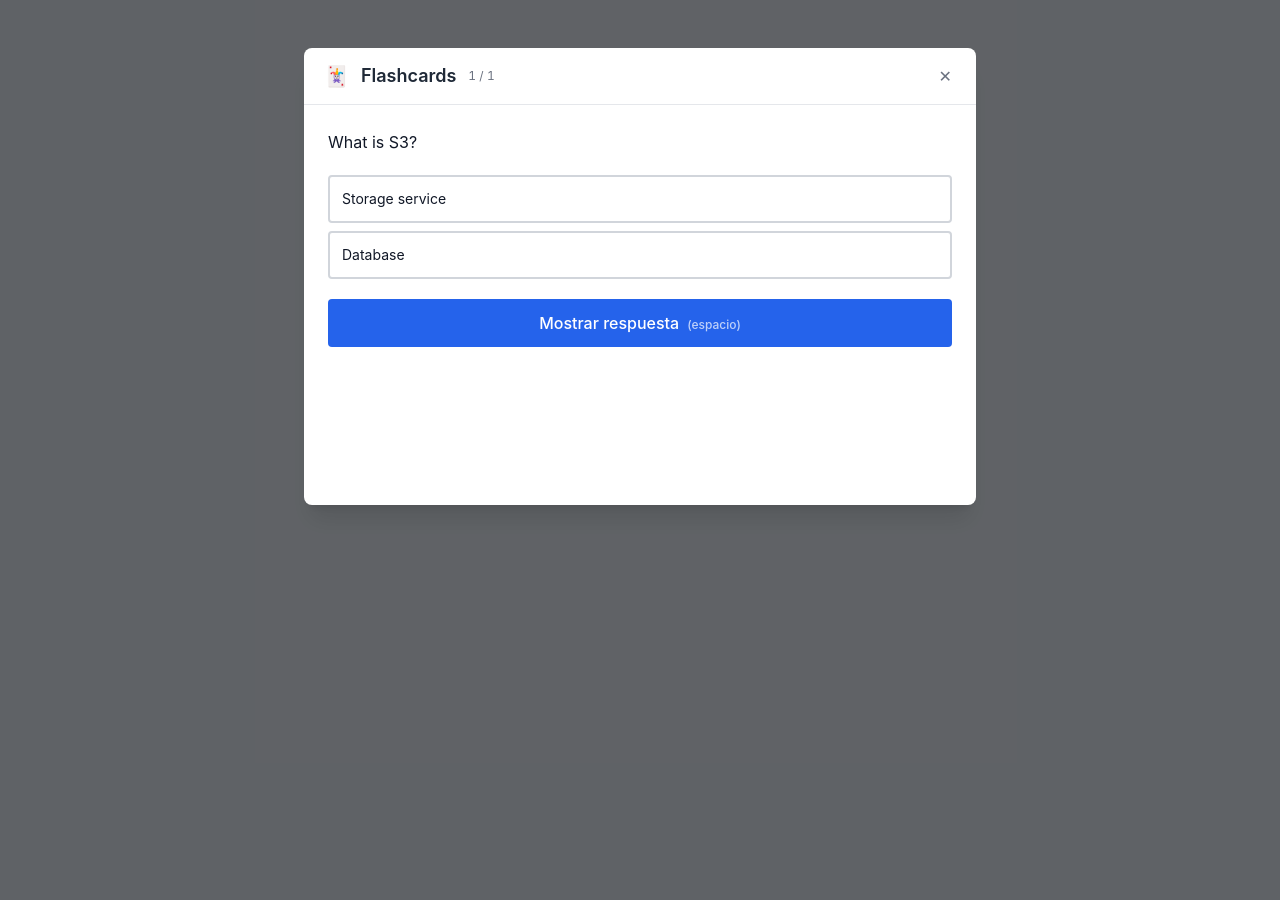
FlashcardMode › shows the finished state after grading the last card
The width and height of the screenshot is (1280, 900).
Expected: the text "1 / 1" is shown, top-left (468, 68), bottom-right (495, 84)
What coordinates should you click on to do the following:
click the button "Mostrar respuesta(espacio)"
I would click on:
 (640, 323)
Its box is top-left (328, 299), bottom-right (952, 347).
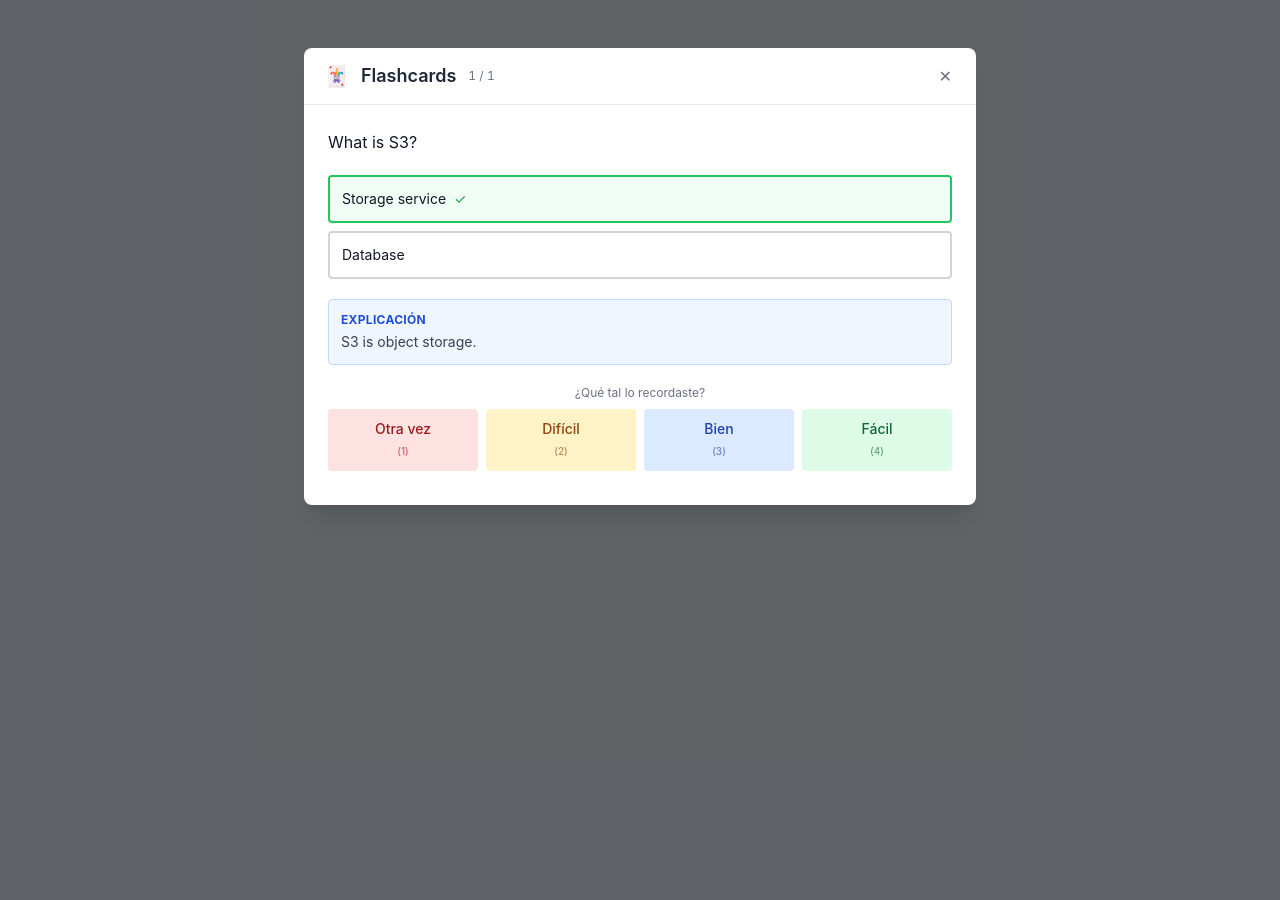
What coordinates should you click on to do the following:
click the button "Fácil (4)"
I would click on:
 (877, 440)
Its box is top-left (802, 409), bottom-right (952, 471).
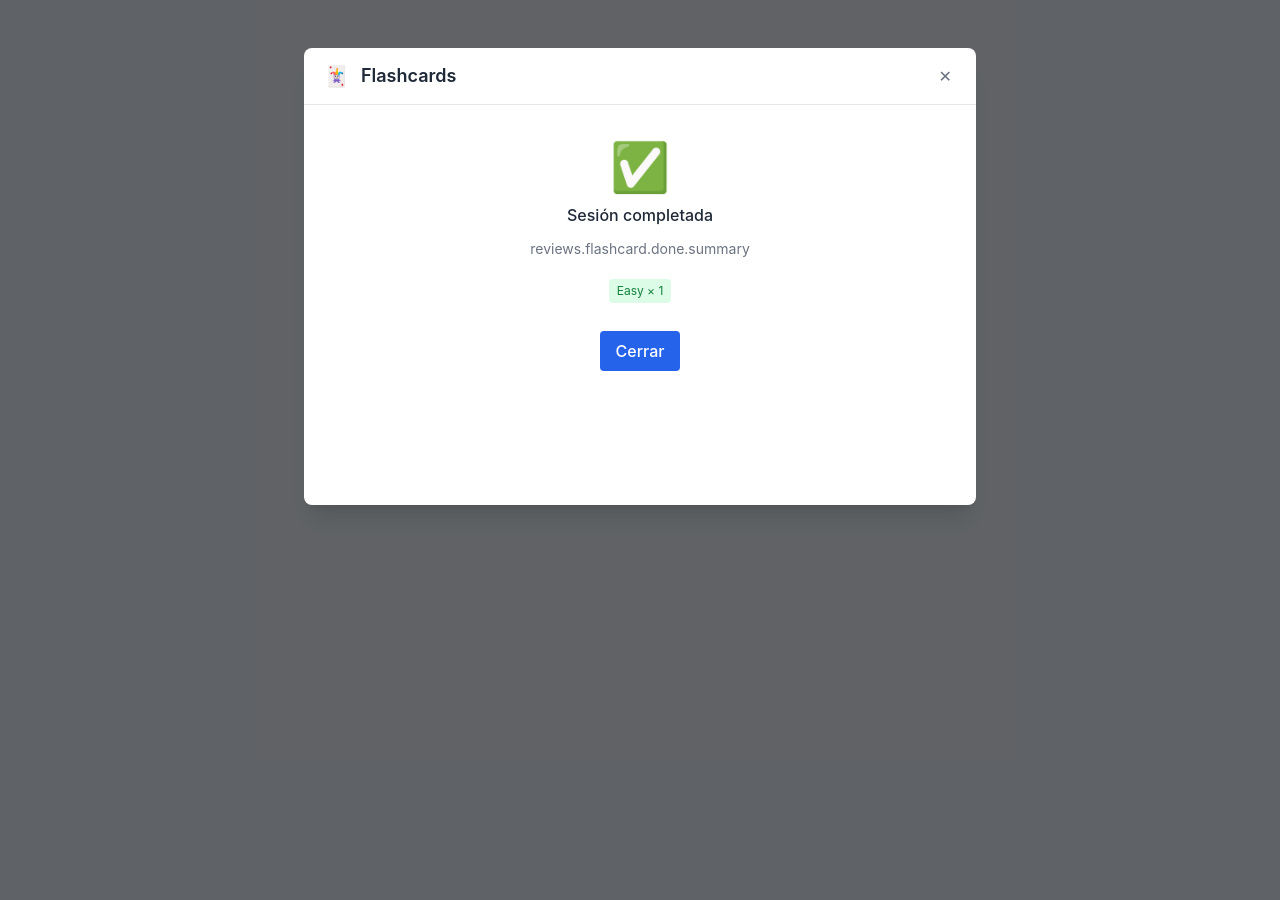
Expected: the heading "Sesión completada" is shown, top-left (567, 203), bottom-right (713, 227)
